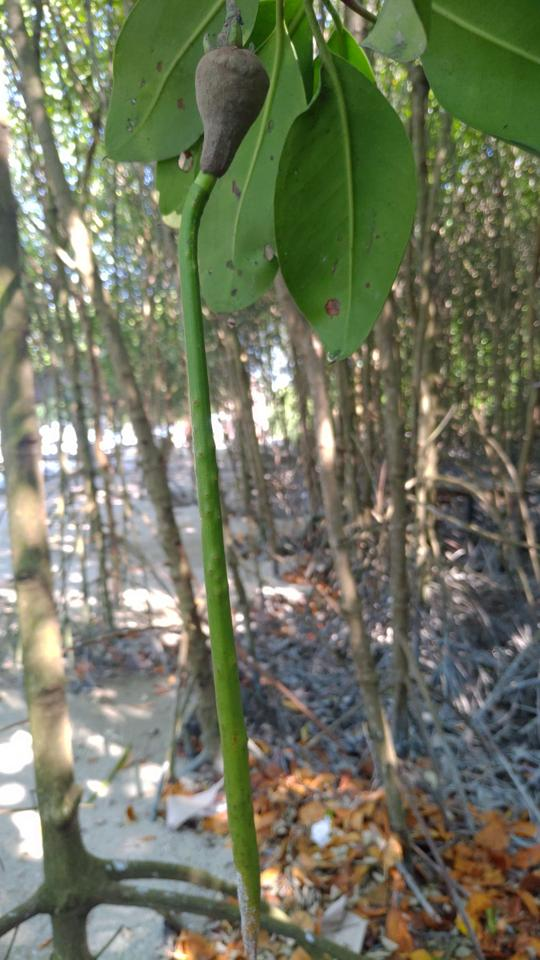setengah matang: (174, 26, 289, 959)
